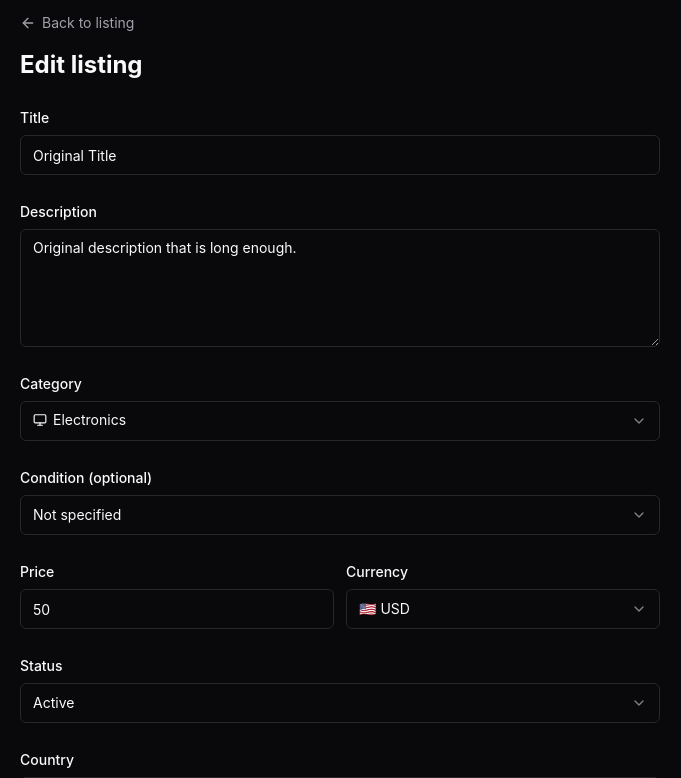
Test case: EditListingPage — validation › shows error for short title
The image size is (681, 778).
Replace the text in the field labelled "Title" with "ab": (340, 155) [20, 135, 660, 175]
(page scrolled)
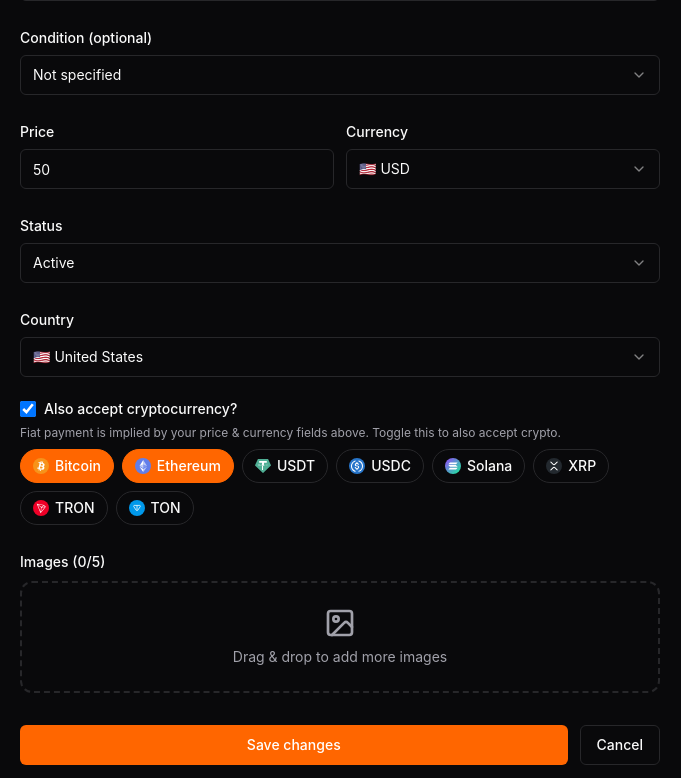
Click the button "Save changes": (294, 745) [20, 725, 568, 765]
(page scrolled)
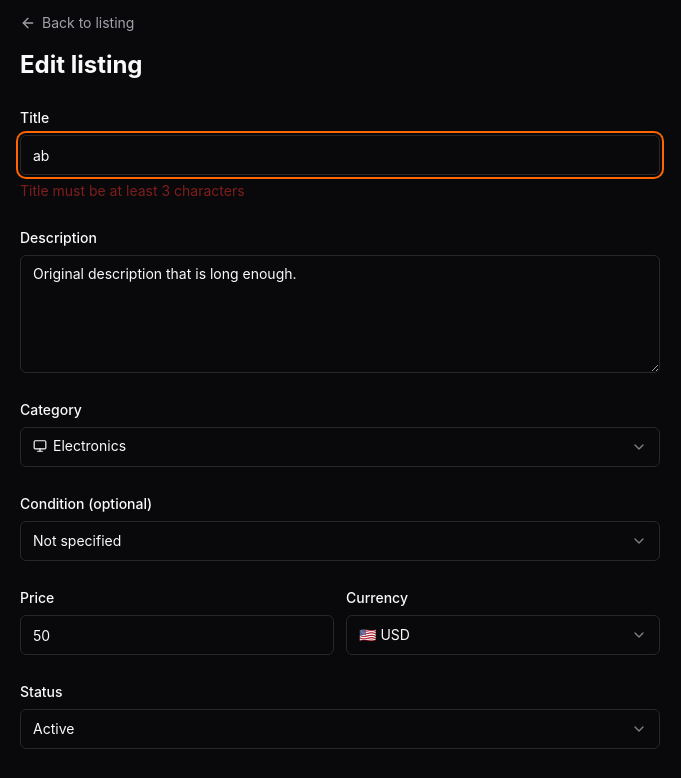
Check: the text "Title must be at least 3 characters" is shown, box [20, 182, 245, 199]
